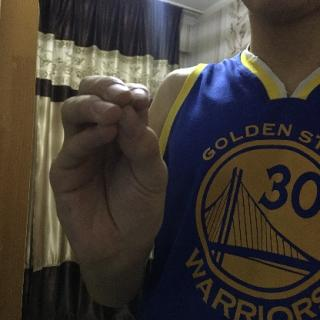HA: (46, 65, 176, 279)
